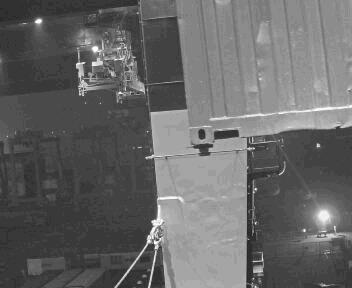twist_lock_1: (182, 142, 207, 165)
